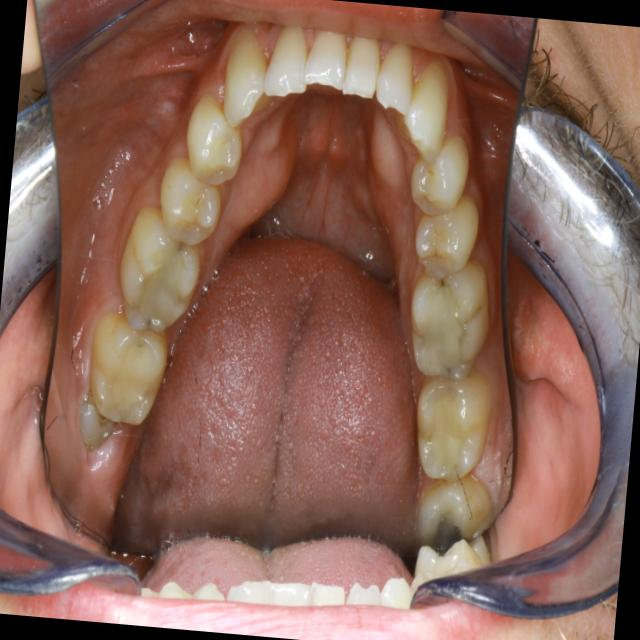tooth: (393, 246, 498, 385), (77, 297, 178, 433), (112, 197, 207, 339), (406, 357, 495, 485), (409, 460, 499, 560), (152, 147, 229, 253), (405, 186, 483, 284), (178, 88, 252, 190), (390, 49, 455, 163), (402, 128, 476, 222), (217, 23, 278, 133), (259, 17, 316, 101), (65, 384, 125, 463), (369, 33, 420, 118), (301, 22, 351, 95), (339, 26, 384, 103)
